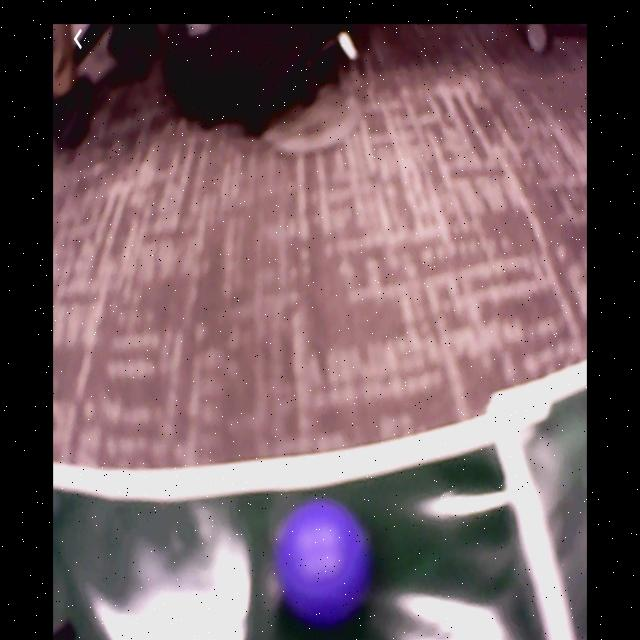ball: (272, 503, 364, 622)
